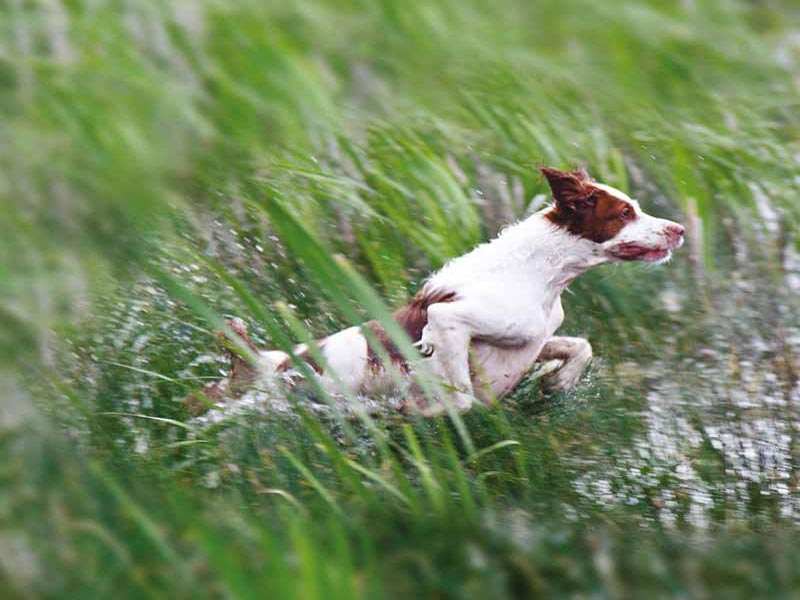cane da caccia: (191, 153, 691, 434)
